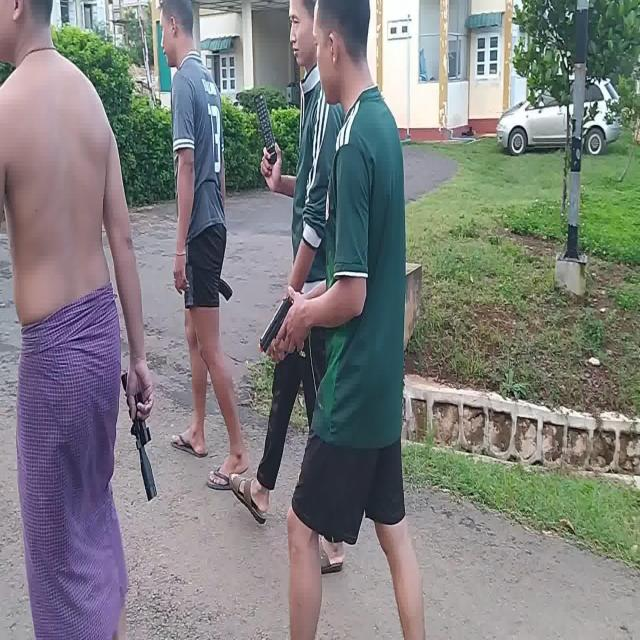gun: (259, 297, 294, 351)
